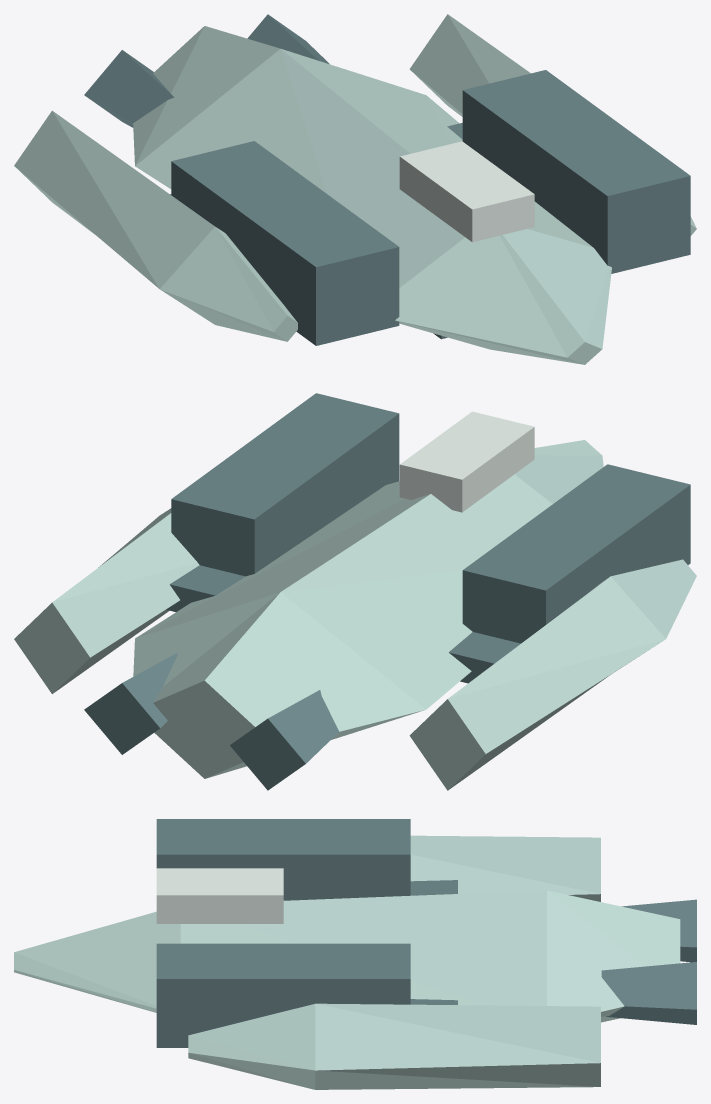
3 renders of one model, top to bottom at view 1: azimuth 30°, elevation 25°; view 2: azimuth 150°, elevation 25°; view 3: azimuth 270°, elevation 25°, orthographic. The views are drawn at different scales.
Bounding box in the file's own units: 3.36 × 1.1 × 4.48.
